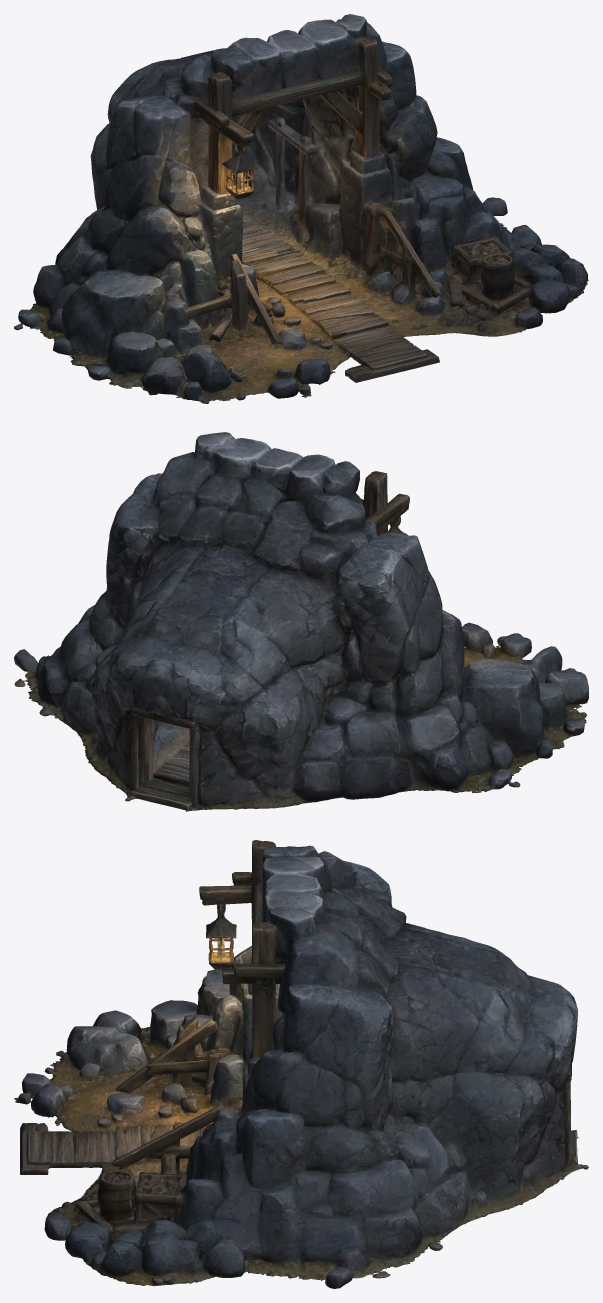
File: Lantern_Gate_to_the_S.glb
3 renders of one model, top to bottom at view 1: azimuth 30°, elevation 25°; view 2: azimuth 150°, elevation 25°; view 3: azimuth 270°, elevation 25°, orthographic. The views are drawn at different scales.
Parts seen in each view (by area): view 1: Lantern_Gate_to_the_S; view 2: Lantern_Gate_to_the_S; view 3: Lantern_Gate_to_the_S.
Part boxes in pixels (bbox=[...]): Lantern_Gate_to_the_S: bbox=[14, 14, 588, 403]; Lantern_Gate_to_the_S: bbox=[14, 432, 588, 811]; Lantern_Gate_to_the_S: bbox=[14, 840, 588, 1288].
Bounding box in the file's own units: 1.88 × 0.9034 × 1.68.
1 material, 1 textured.
